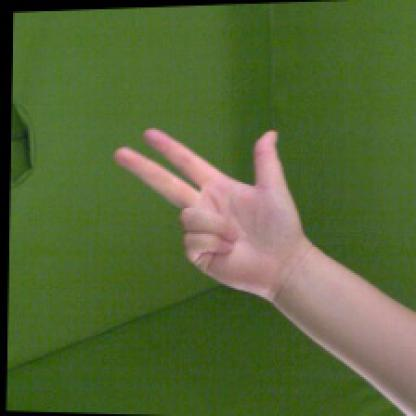Hand: (114, 126, 314, 300)
